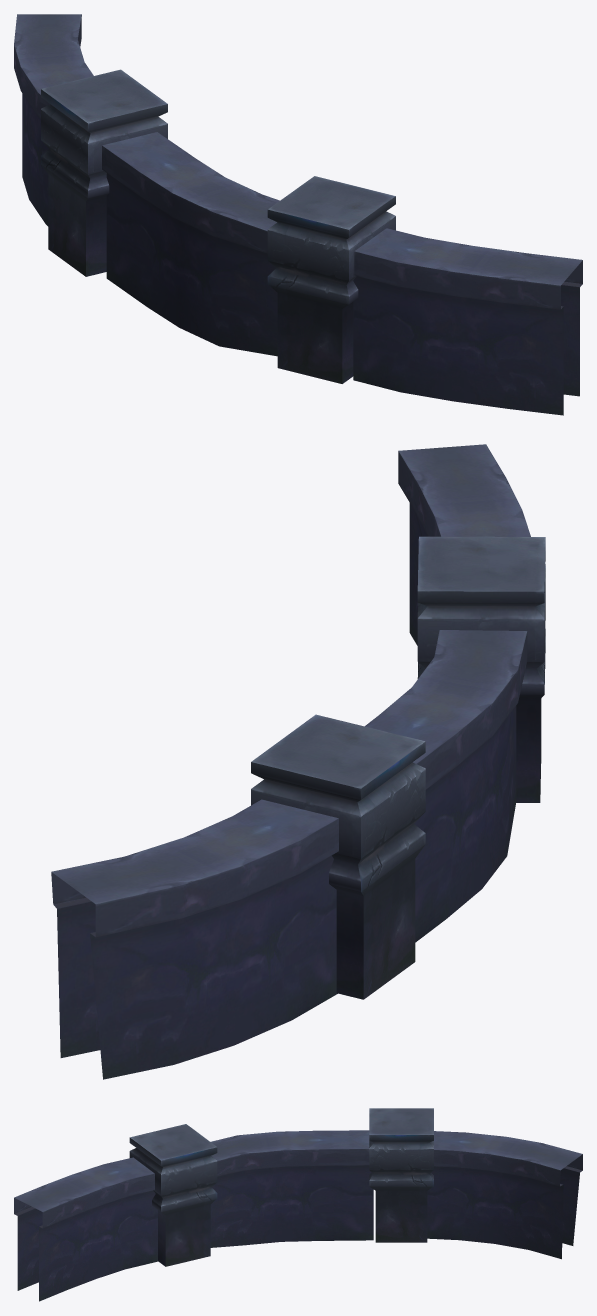
The model's file is Juesexuanze_wujian.FBX.
3 renders of one model, top to bottom at view 1: azimuth 30°, elevation 25°; view 2: azimuth 150°, elevation 25°; view 3: azimuth 270°, elevation 25°, orthographic. The views are drawn at different scales.
Visible parts, largest first — view 1: Juesexuanze_wujian; view 2: Juesexuanze_wujian; view 3: Juesexuanze_wujian.
Part boxes in pixels (box(x1,y1,x2,y2)): Juesexuanze_wujian: box(14, 14, 582, 415); Juesexuanze_wujian: box(51, 444, 545, 1079); Juesexuanze_wujian: box(14, 1108, 582, 1301).
Bounding box in the file's own units: 34.82 × 96.97 × 20.94.
